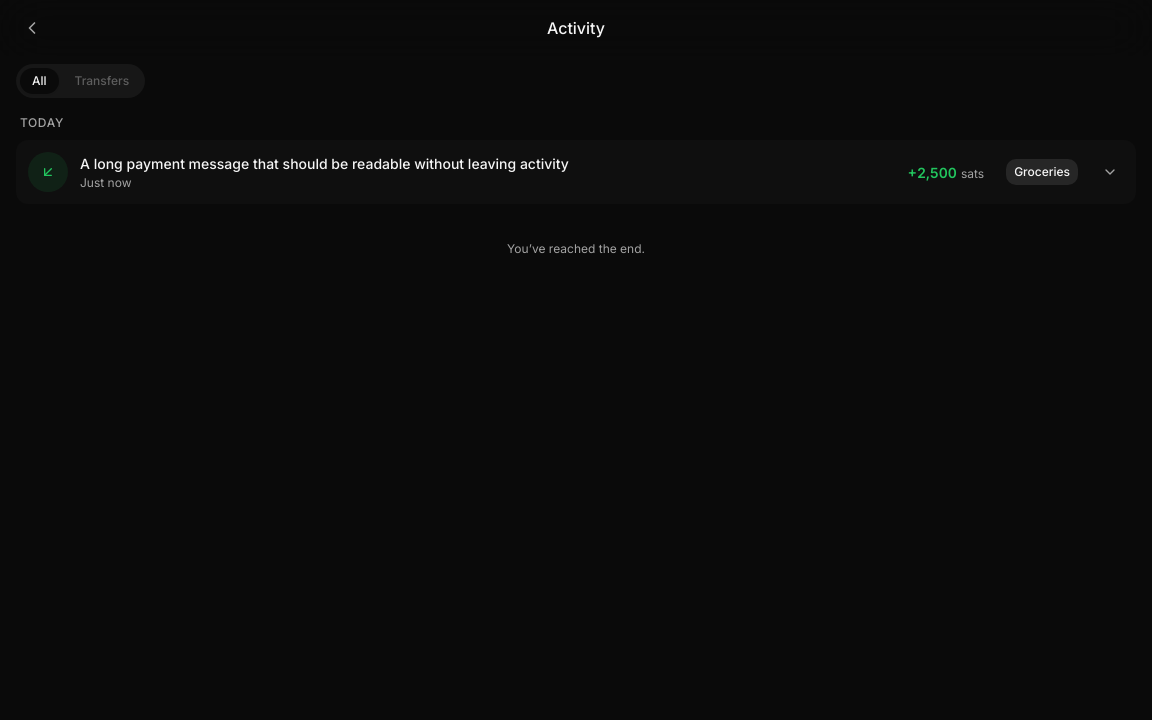
Test: ActivityScreen quick transaction information › removes the current tag directly from the selector
The width and height of the screenshot is (1152, 720).
Click the button with aria-label "Choose tag" at x=1042, y=172, box [1000,150,1084,194]
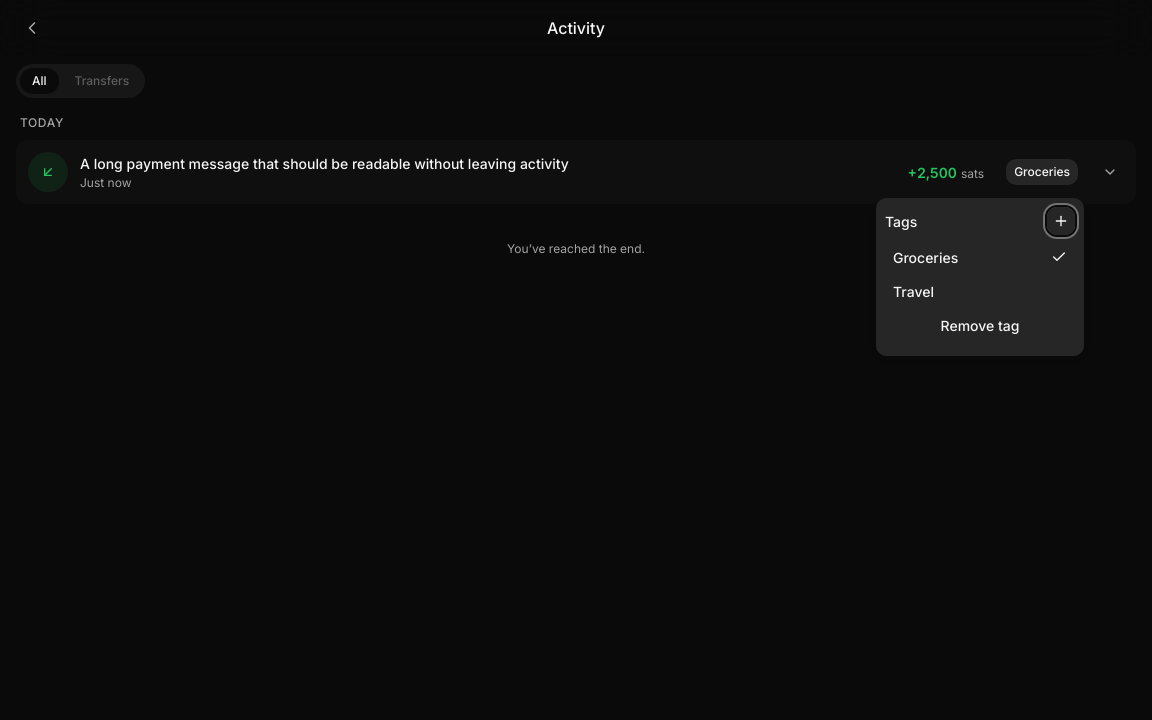
Click the button "Remove tag" at x=980, y=325, box [885,309,1075,341]
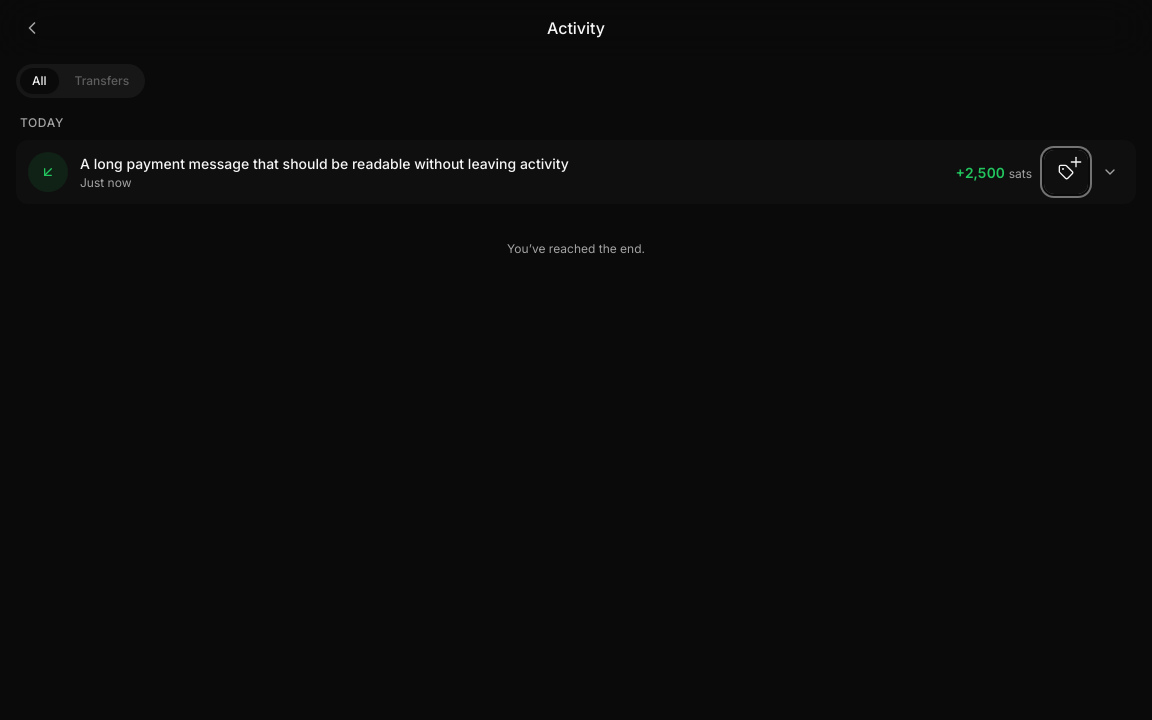
Click the button named "Expand transaction information" at x=1110, y=172, box [1088,150,1132,194]
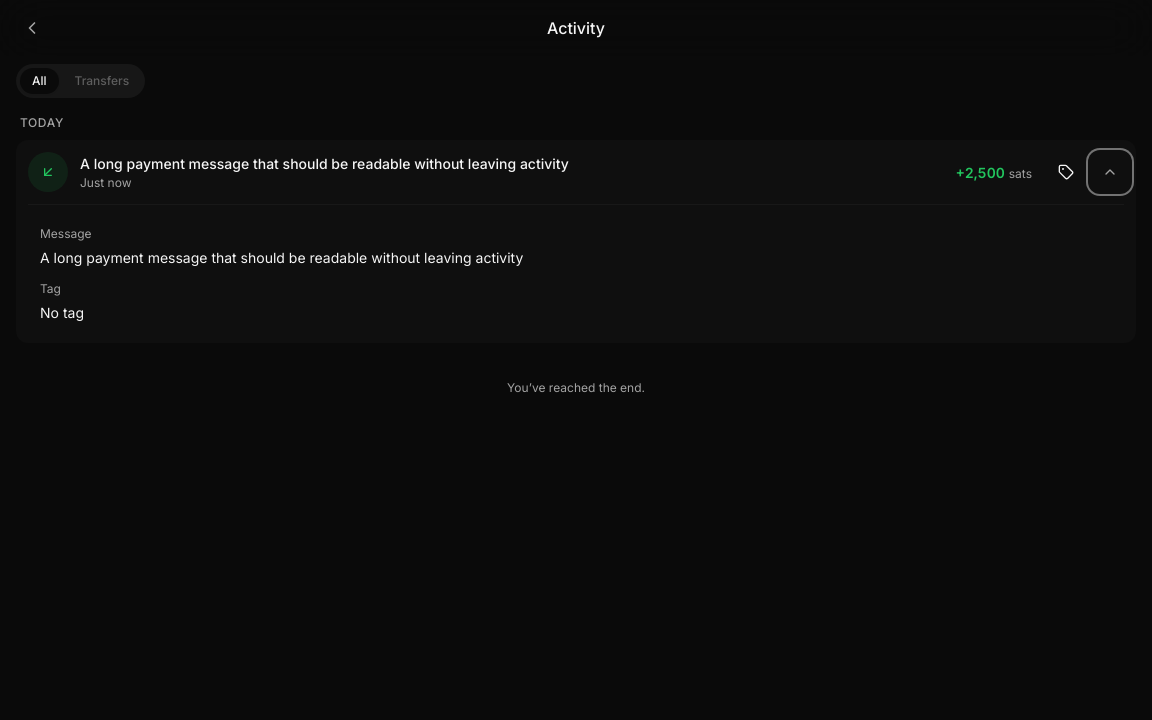
Expected: the text "No tag" is shown, [40,304,84,321]
